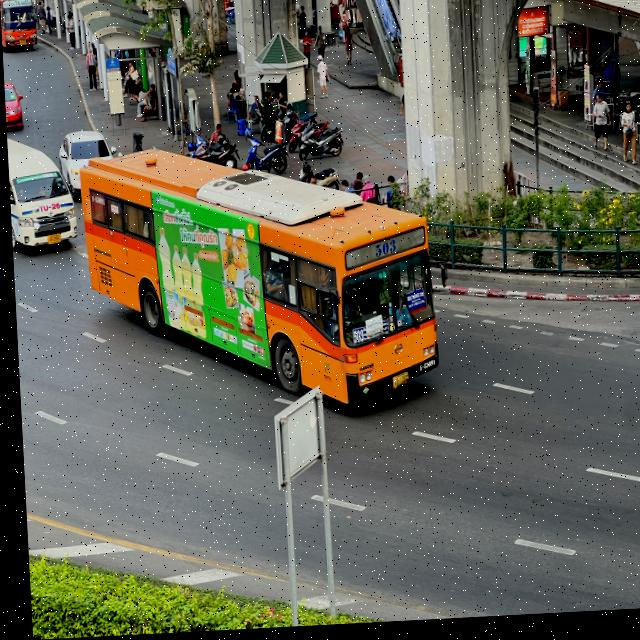BMTA-bus: (76, 153, 435, 411)
Bus Line Number: (372, 242, 394, 263)
Bus Side Number: (414, 360, 434, 381)
Destination Sign: (403, 297, 421, 313)
